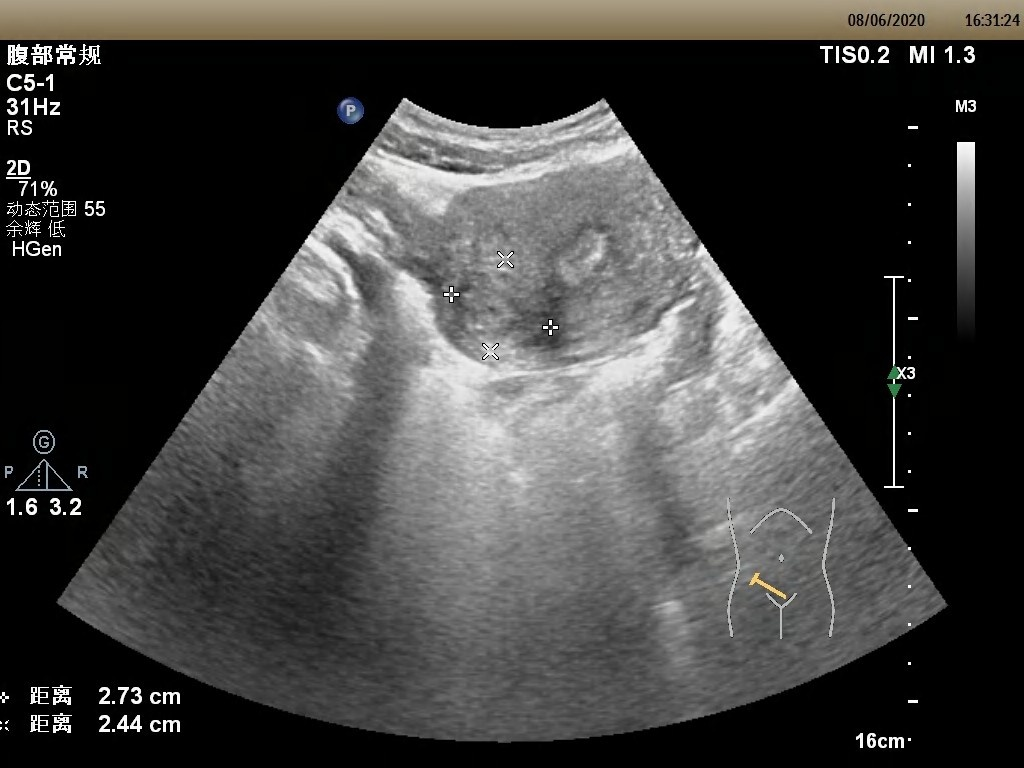肌瘤: (462, 261, 547, 348)
